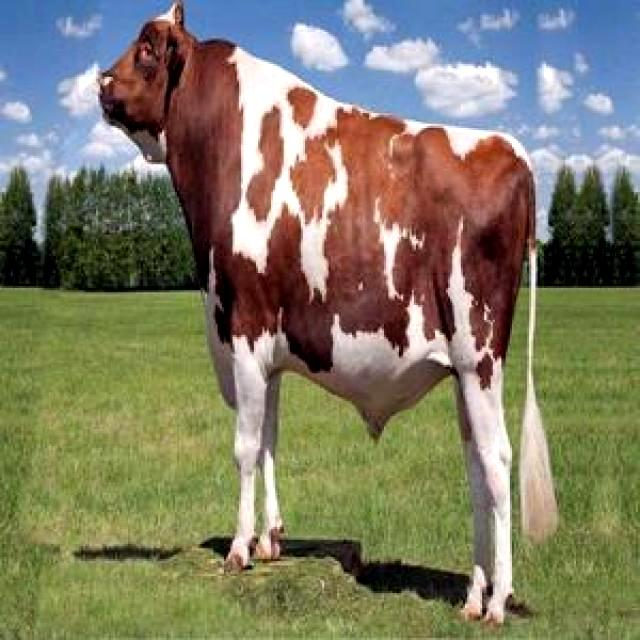COW: (100, 2, 559, 622)
